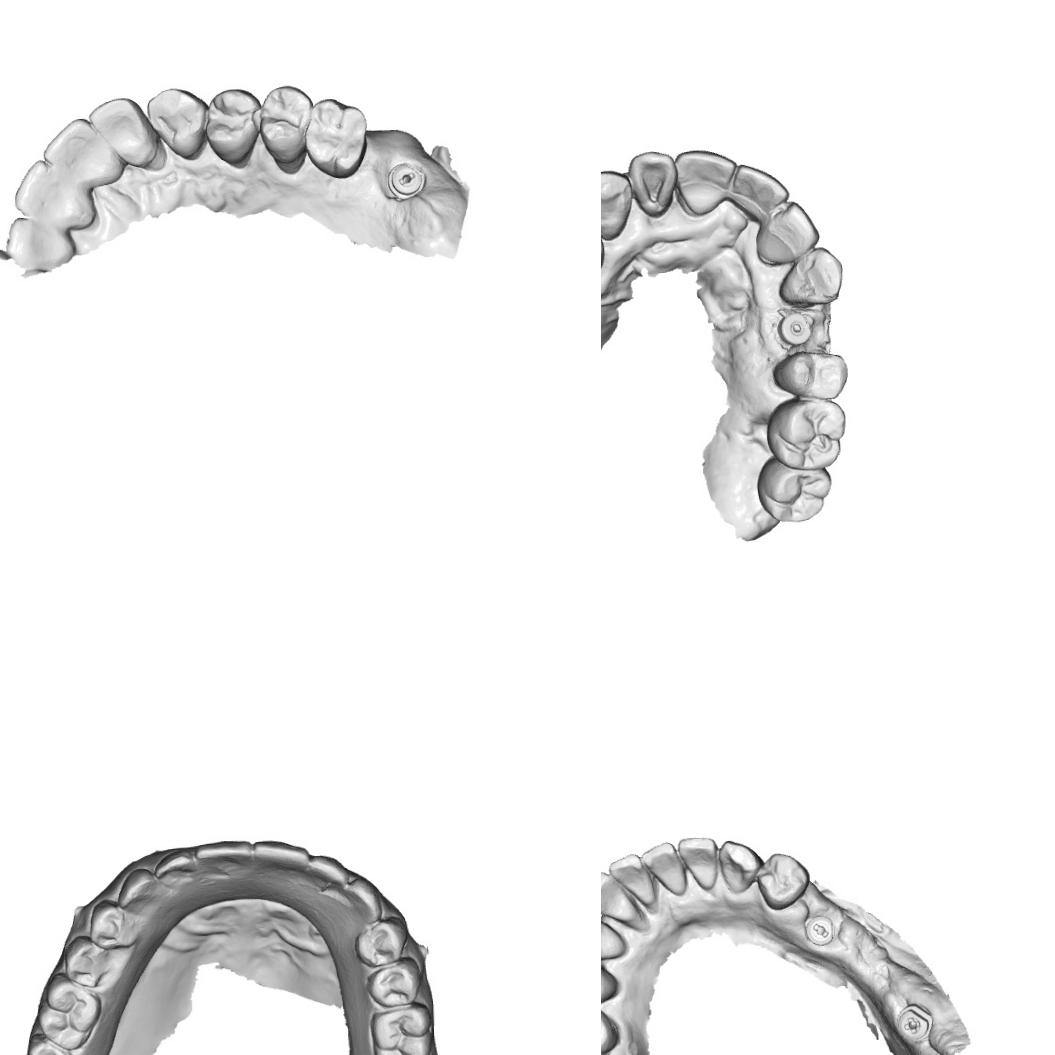canine: (140, 84, 212, 163), (775, 246, 843, 308), (716, 834, 764, 898), (337, 872, 391, 928), (114, 866, 164, 916), (601, 167, 632, 242), (601, 912, 633, 963)
implant: (775, 306, 817, 349), (800, 911, 836, 951)
implant_minus: (384, 158, 430, 204)
implant_plus: (892, 999, 938, 1046)
incisor: (38, 113, 124, 193), (10, 156, 97, 234), (84, 94, 158, 171), (750, 199, 822, 267), (674, 146, 740, 219), (725, 159, 792, 221), (628, 146, 678, 219), (604, 850, 661, 911), (190, 836, 256, 884), (639, 834, 687, 898), (250, 836, 312, 884), (676, 831, 722, 894), (306, 850, 354, 904), (601, 868, 641, 925), (150, 846, 201, 890)
molar: (764, 394, 848, 471), (300, 95, 374, 182), (752, 454, 838, 528), (32, 968, 105, 1052), (366, 1001, 438, 1055), (20, 1036, 77, 1055)
premolar: (254, 81, 314, 170), (202, 85, 262, 167), (770, 347, 853, 403), (350, 914, 416, 973), (754, 849, 813, 912), (359, 958, 426, 1010), (60, 934, 114, 992), (84, 895, 140, 950), (601, 1002, 619, 1055), (601, 957, 619, 1010)
